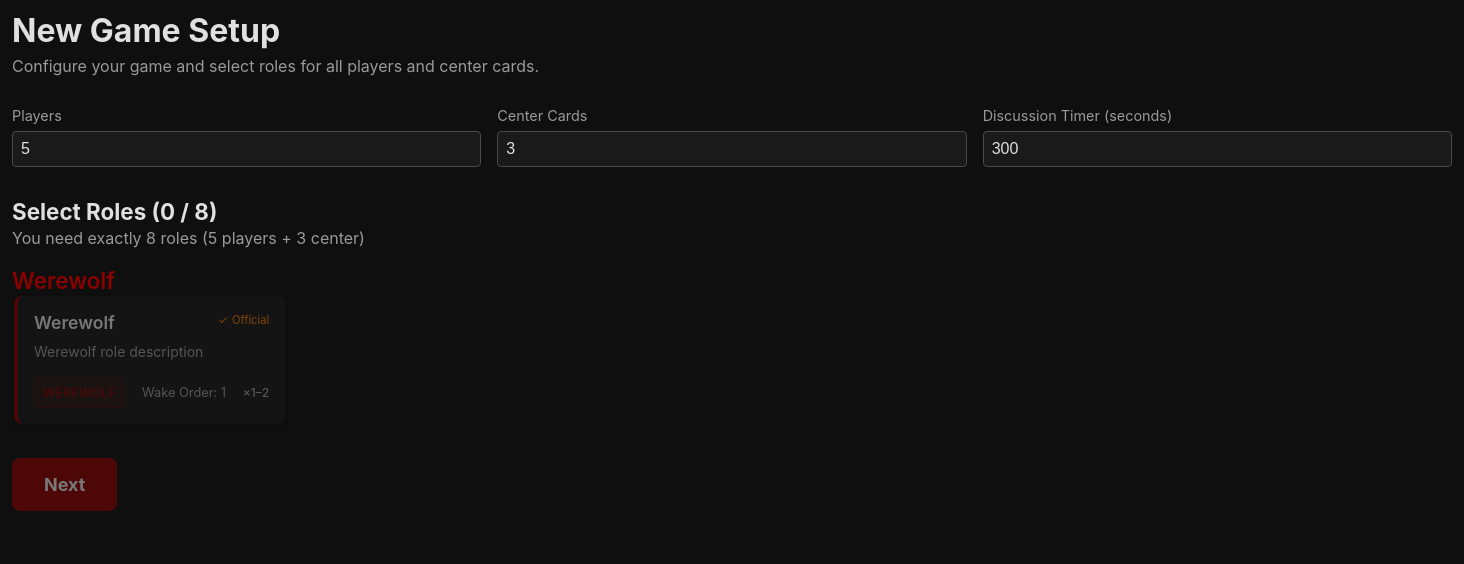
Test: GameSetupPage › multi-copy role selection › clicking an already-selected role removes it
Click the element that starts with "Werewolf".
click(150, 360)  # box x1=12 y1=294 x2=287 y2=426
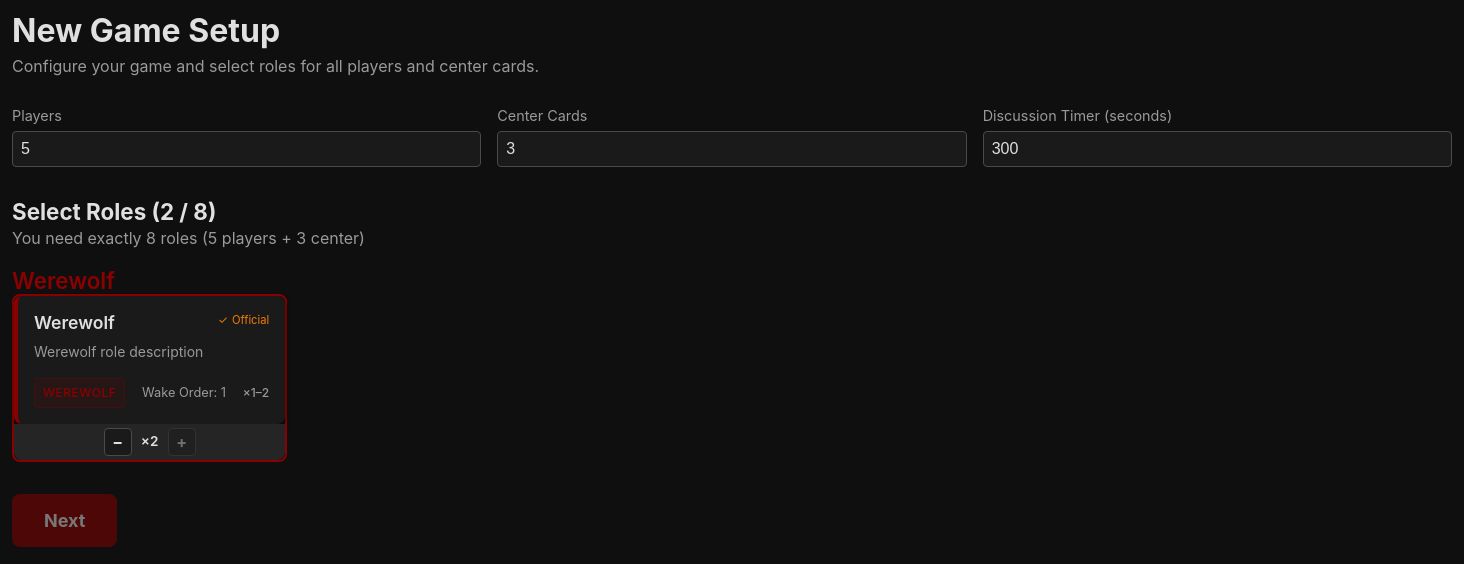
Click the element that starts with "Werewolf".
click(150, 378)  # box x1=12 y1=294 x2=287 y2=462
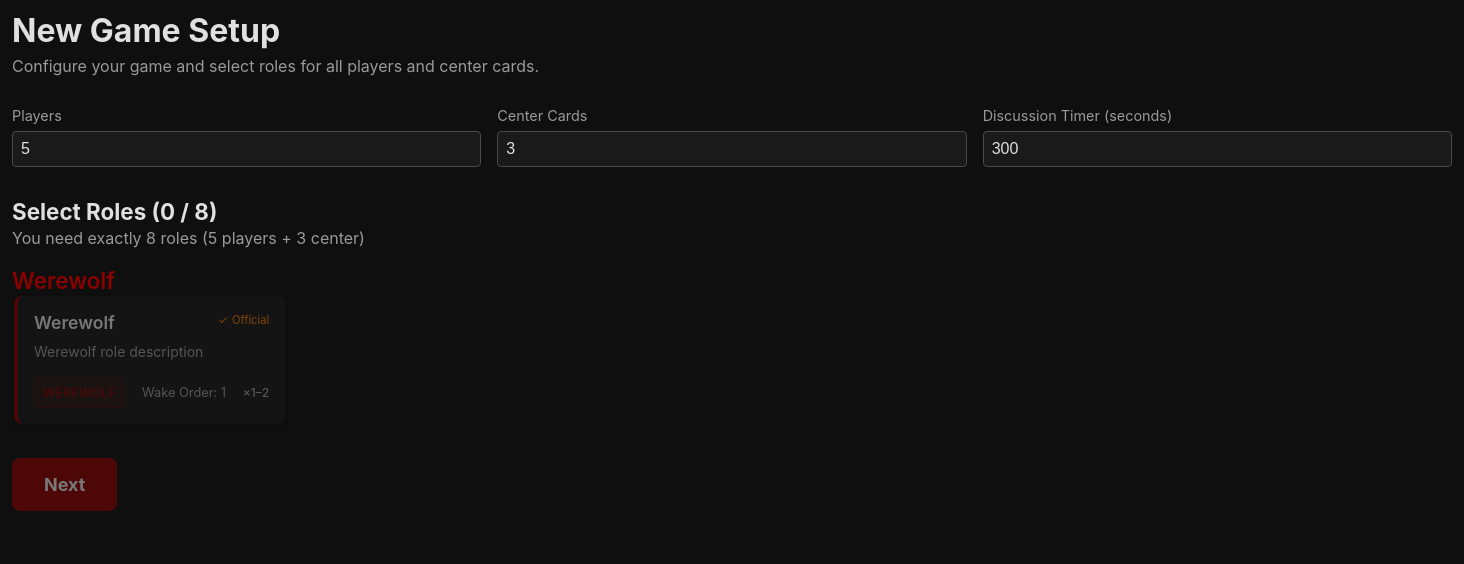
Result: the heading "Select Roles (0 / 8)" is shown at x1=12 y1=198 x2=217 y2=225
